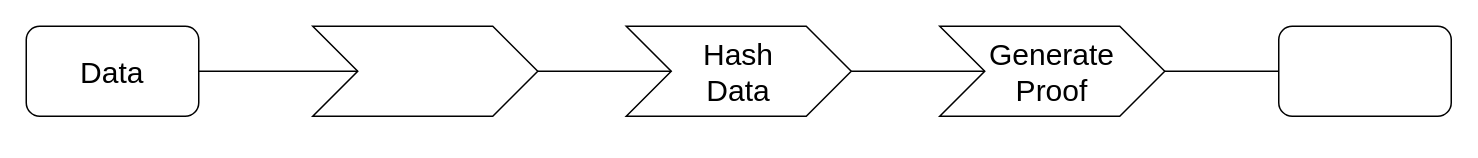
The diagram is 1478 pixels wide and 158 high, and some of its shapes have lost their labels. Each missing label, with the box of its shape:
Data with Proof: (1277, 25, 1451, 116)
Transform Data: (311, 25, 538, 116)
